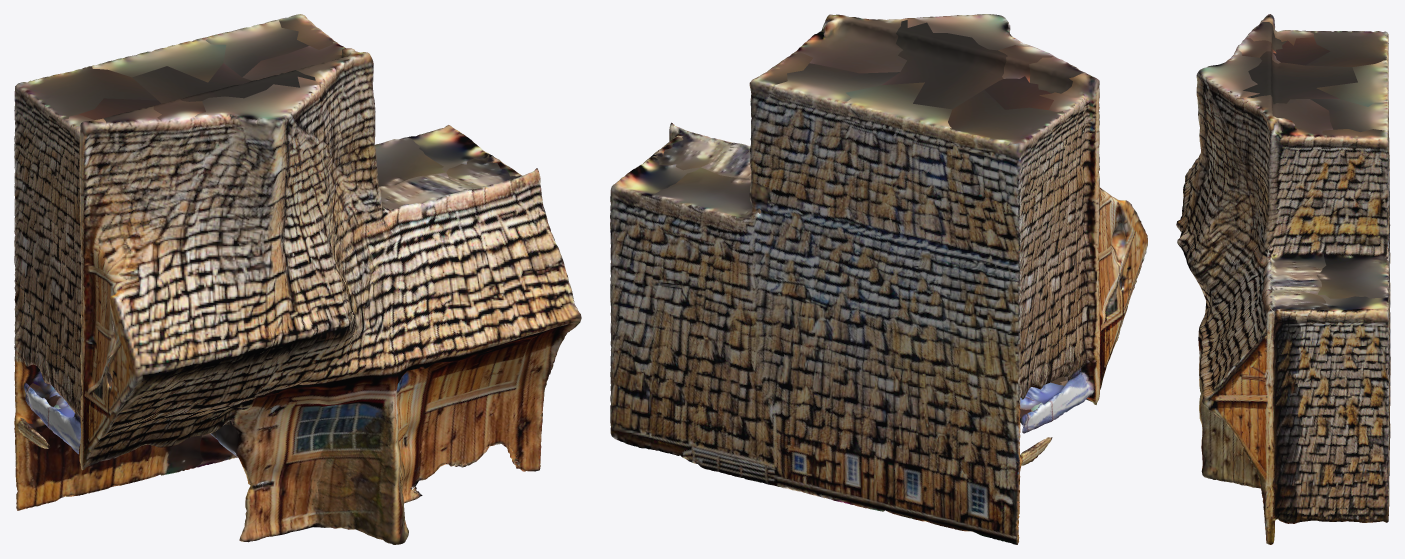
3 renders of one model, left to right at view 1: azimuth 30°, elevation 25°; view 2: azimuth 150°, elevation 25°; view 3: azimuth 270°, elevation 25°, orthographic. The views are drawn at different scales.
Bounding box in the file's own units: 1 × 0.9602 × 0.5186.
Materials: 1 (1 with a texture image).
